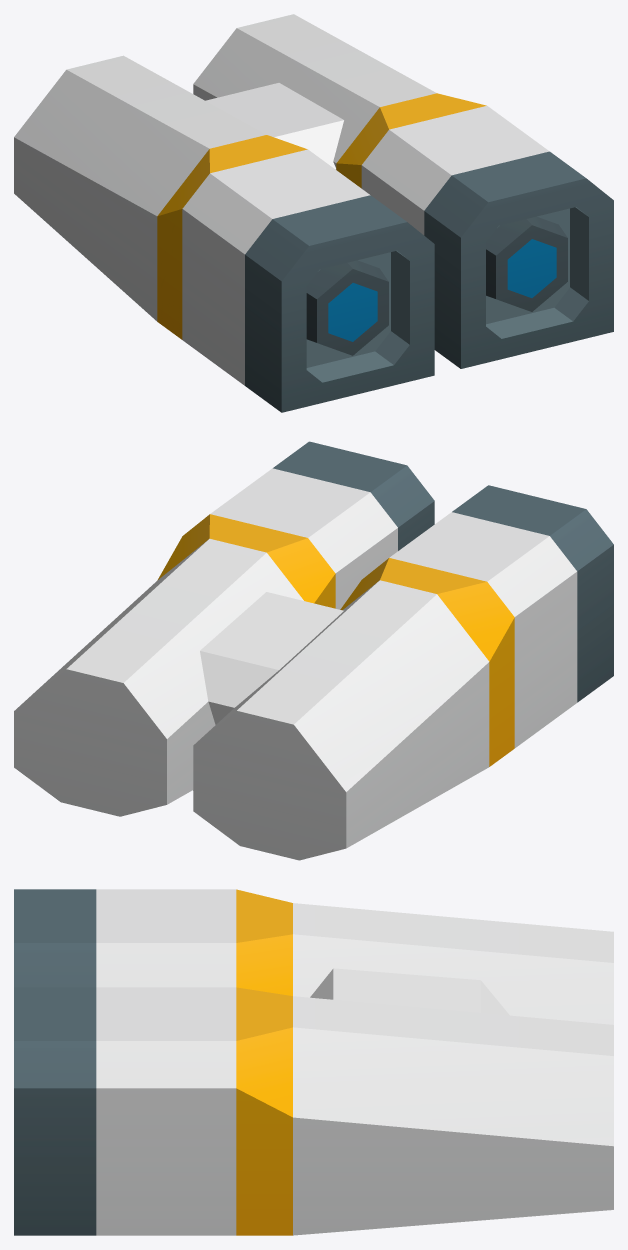
Rendered from Cam_010.fbx.
The picture shows the model from 3 angles, top to bottom: view 1: azimuth 30°, elevation 25°; view 2: azimuth 150°, elevation 25°; view 3: azimuth 270°, elevation 25°; orthographic projection. The views are drawn at different scales.
Parts seen in each view (by area): view 1: Cam_010; view 2: Cam_010; view 3: Cam_010.
Boxes of the visible parts, left/top/right/bottom form: Cam_010: left=14, top=14, right=613, bottom=412; Cam_010: left=14, top=441, right=613, bottom=860; Cam_010: left=14, top=889, right=613, bottom=1235.
Size of the model in its own units: 28.22 by 39.39 by 16.36.
